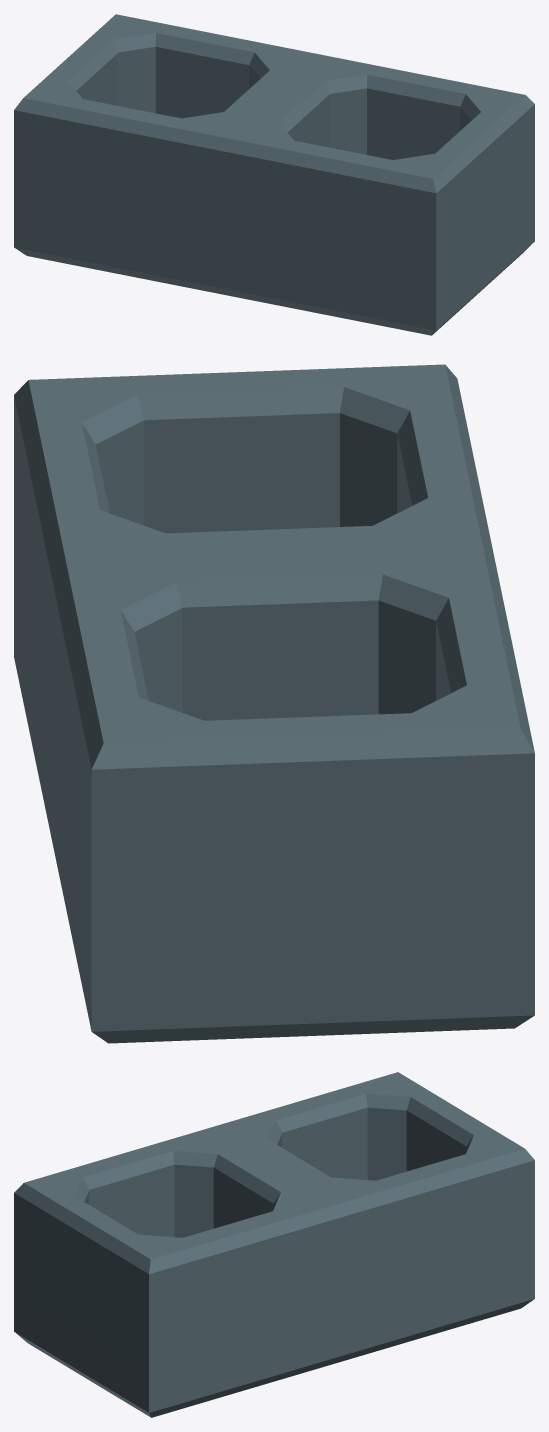
File: brick_a001.glb
The picture shows the model from 3 angles, top to bottom: view 1: azimuth 30°, elevation 25°; view 2: azimuth 150°, elevation 25°; view 3: azimuth 270°, elevation 25°; orthographic projection. The views are drawn at different scales.
Visible parts, largest first — view 1: brick_a001; view 2: brick_a001; view 3: brick_a001.
Part boxes in pixels (<box>): brick_a001: <box>14,14,534,335</box>; brick_a001: <box>14,364,534,1043</box>; brick_a001: <box>14,1072,534,1417</box>.
Bounding box in the file's own units: 0.3933 × 0.1499 × 0.4424.
Materials: 1 (1 with a texture image).
